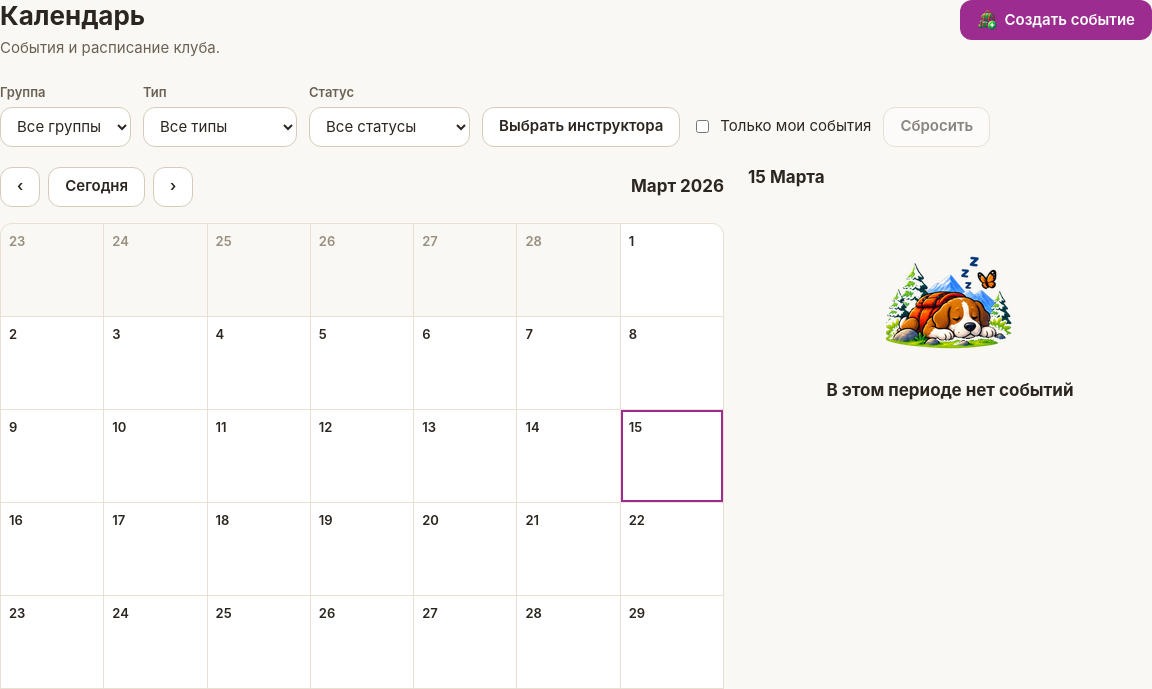
EventsPage — instructor/user filter (TH-0107) › opens the picker and loads the instructor directory scoped to role and club
Click the button "Выбрать инструктора": (581, 126) 482,106 -> 680,146
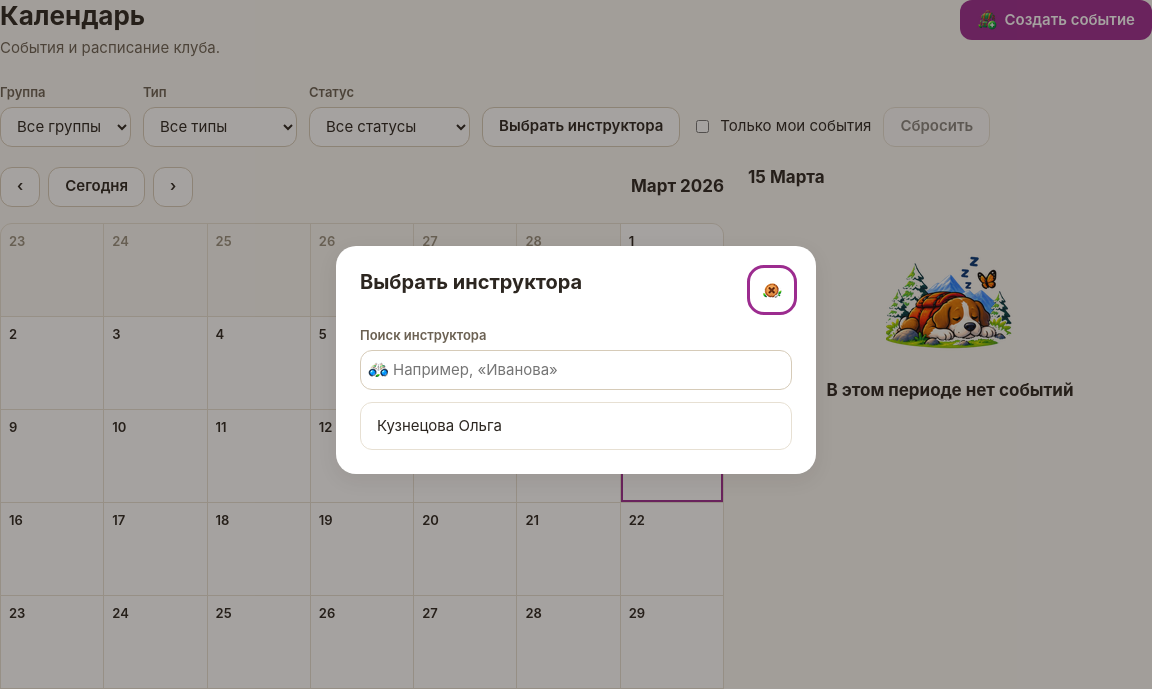
Result: the button "Кузнецова Ольга" is shown at 365,406 -> 787,445
